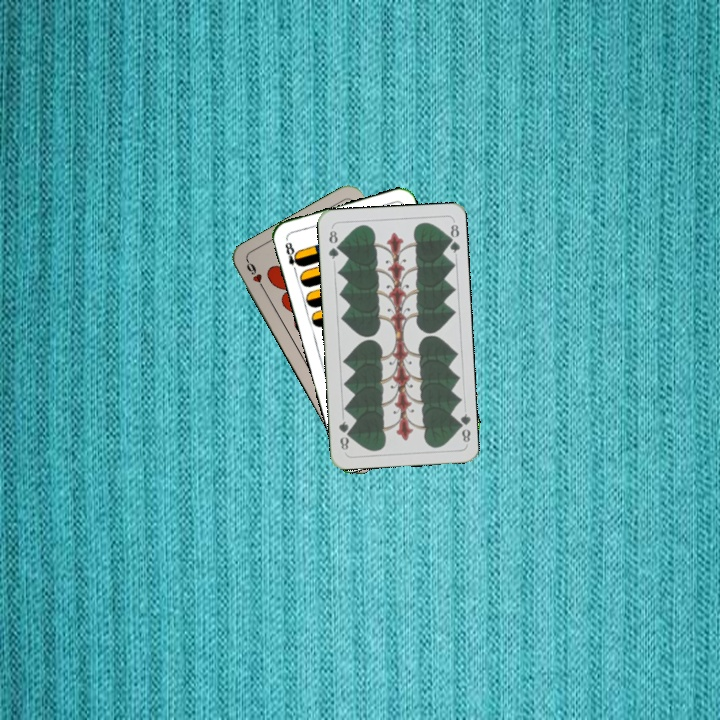E8: (281, 238, 304, 275)
G8: (452, 410, 473, 444), (324, 224, 342, 262)
H9: (242, 257, 268, 294)
